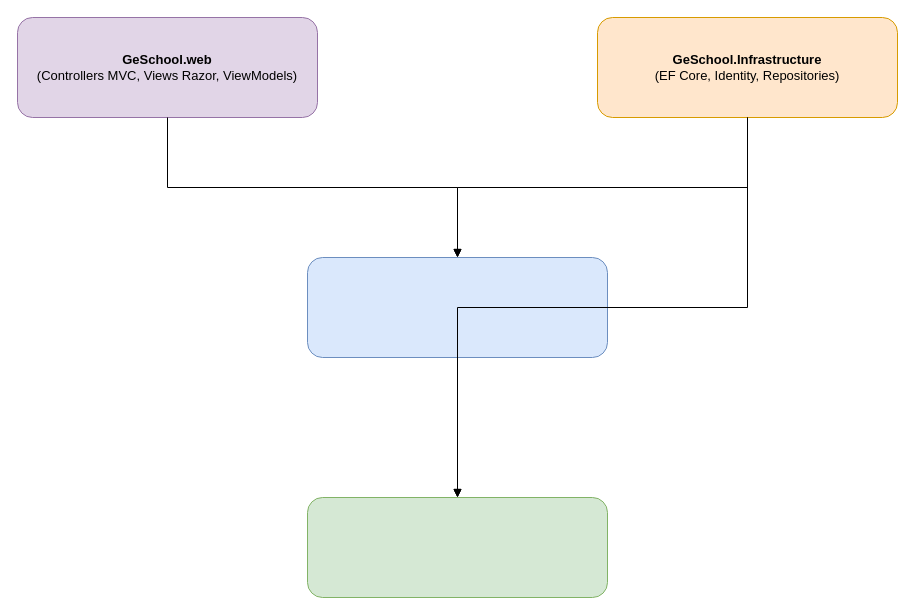
The diagram is 915 pixels wide and 615 high, and some of its shapes have lost their labels. The box of each missing label's shape, as (x1, y1, x2, y2) in pixels:
GeSchool.Application (Services, DTOs, Interfaces, Validators, Mappings): (306, 256, 608, 358)
GeSchool.Domain (Entites metier, Enums) ne depend d'aucun autre projet: (306, 496, 608, 598)
